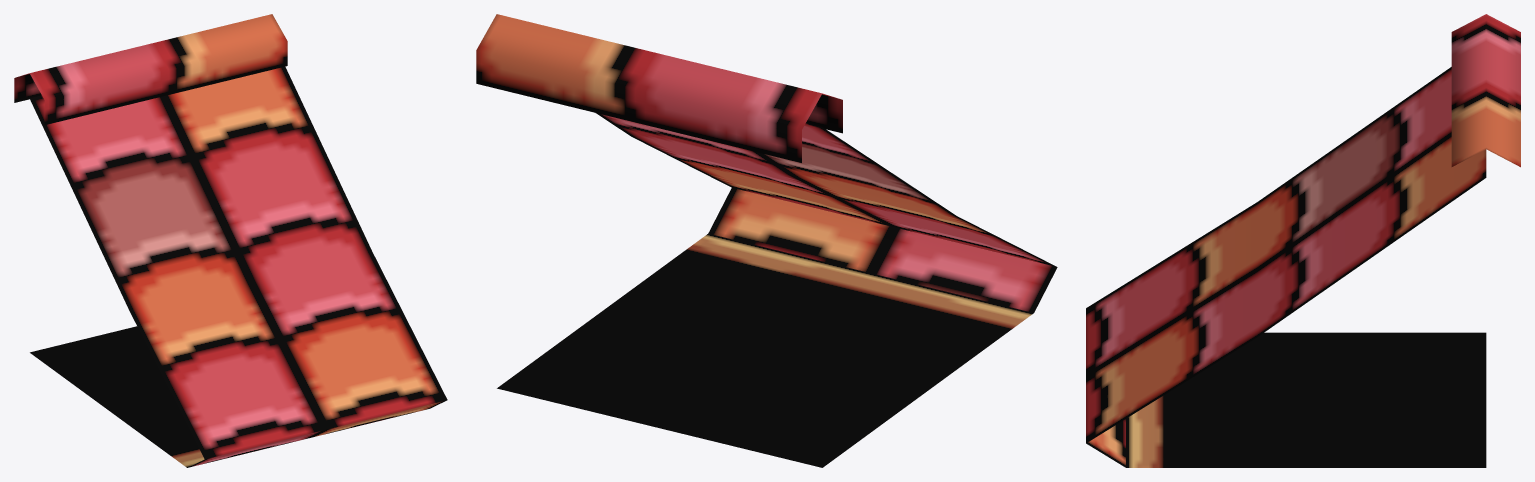
File: arch_roof_straightHalf_tiles.FBX
3 renders of one model, left to right at view 1: azimuth 30°, elevation 25°; view 2: azimuth 150°, elevation 25°; view 3: azimuth 270°, elevation 25°, orthographic. The views are drawn at different scales.
Visible parts, largest first — view 1: arch_roof_straightHalf_tiles; view 2: arch_roof_straightHalf_tiles; view 3: arch_roof_straightHalf_tiles.
Boxes of the visible parts, left/top/right/bottom form: arch_roof_straightHalf_tiles: left=14, top=14, right=447, bottom=467; arch_roof_straightHalf_tiles: left=476, top=14, right=1057, bottom=467; arch_roof_straightHalf_tiles: left=1086, top=14, right=1520, bottom=467.
Bounding box in the file's own units: 2 × 2.2 × 2.72.
1 material, 1 textured.
